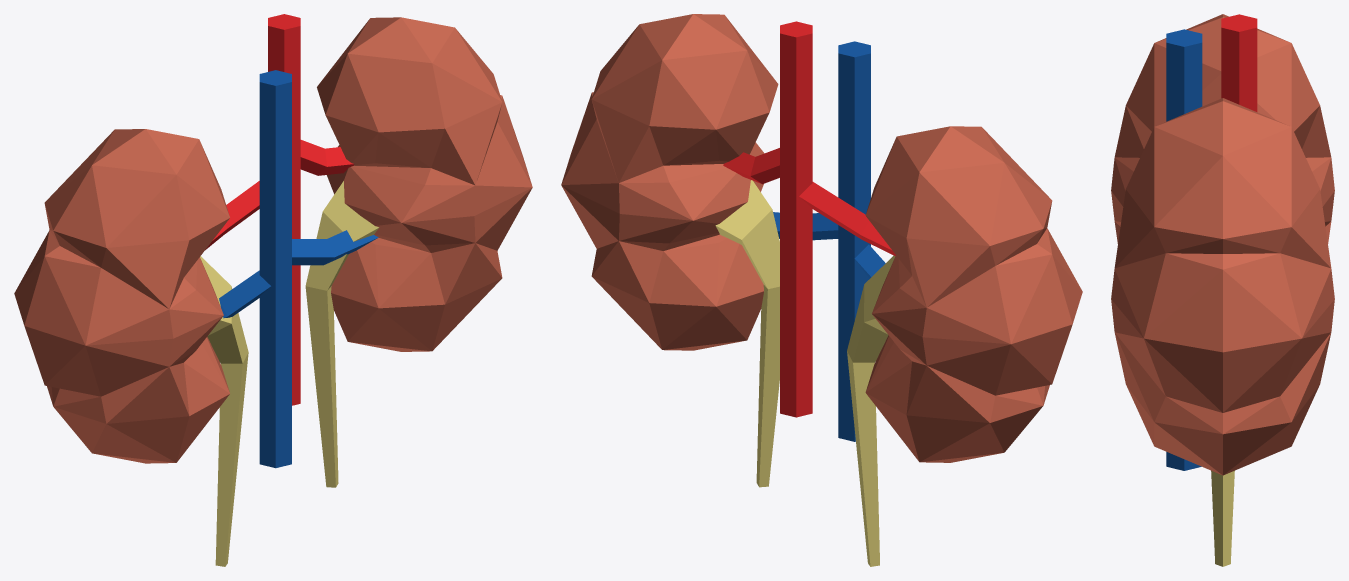
File: kidney.FBX
3 views of the same model, side by side, from view 1: azimuth 30°, elevation 25°; view 2: azimuth 150°, elevation 25°; view 3: azimuth 270°, elevation 25° (orthographic). The views are drawn at different scales.
Visible parts, largest first — view 1: kidney; view 2: kidney; view 3: kidney.
Part boxes in pixels (box(x1,y1,x2,y2)): kidney: box(14, 14, 532, 566); kidney: box(561, 14, 1082, 566); kidney: box(1111, 14, 1334, 566).
Size of the model in its own units: 0.5411 by 0.54 by 0.1897.
